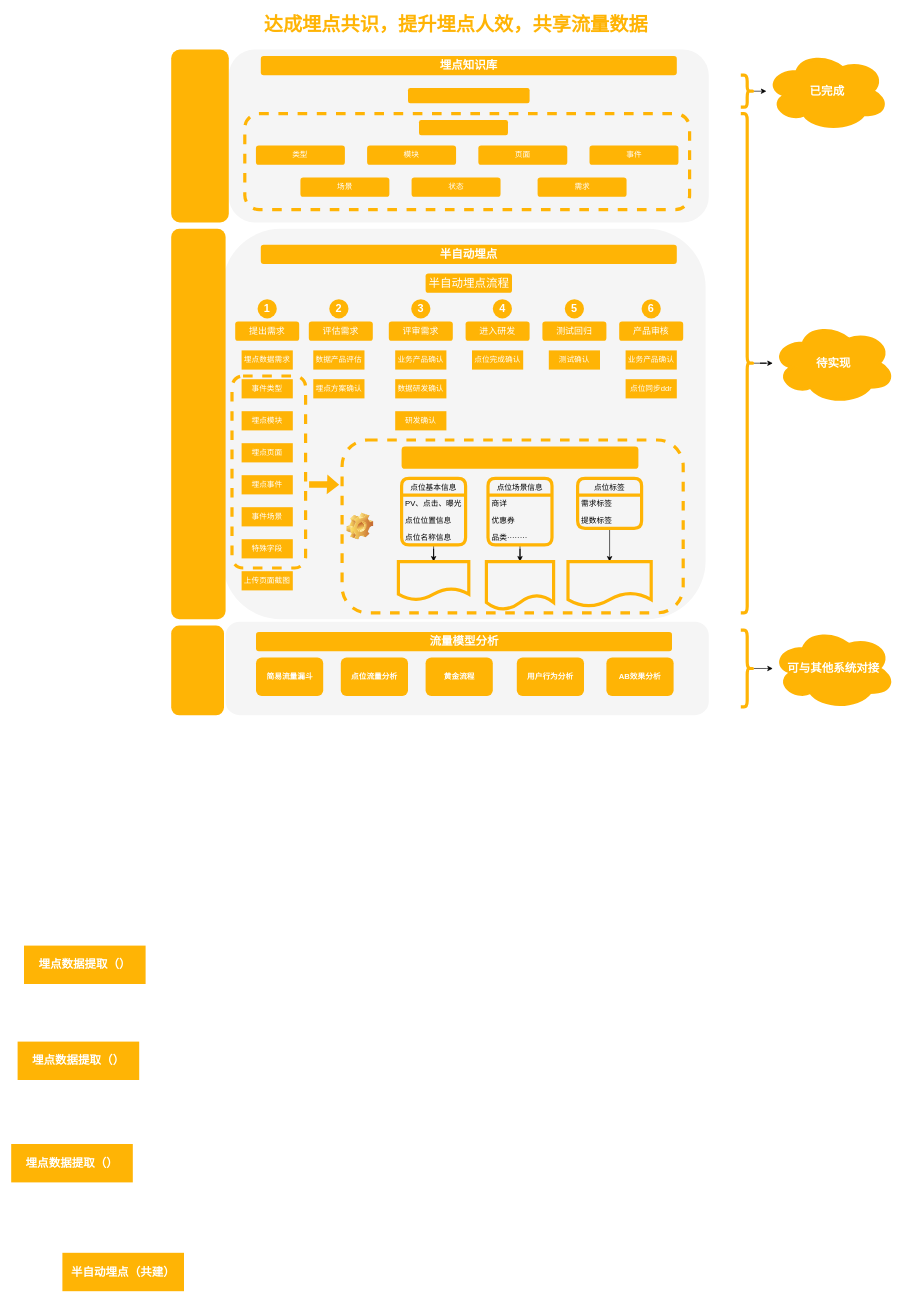
The diagram is 907 pixels wide and 1302 high, and some of its shapes have lost their labels. The shapes that lost their labels are listed below. From the top down, each one's centre as x and y in pixels, then its label:
[468,95]: 埋点字段名词解释
[199,135]: 共识层
[463,127]: 点位检索
[198,423]: 共建层
[519,457]: 半自动埋点功能概述
[433,580]: 记录点位基本信息
[519,585]: 根据场景选择填充预制参数信息，自动生成参数方案
[609,584]: 为埋点打上标签，根据标签可将点位联系在一起，方便制作简单漏斗
[197,670]: 共享层
